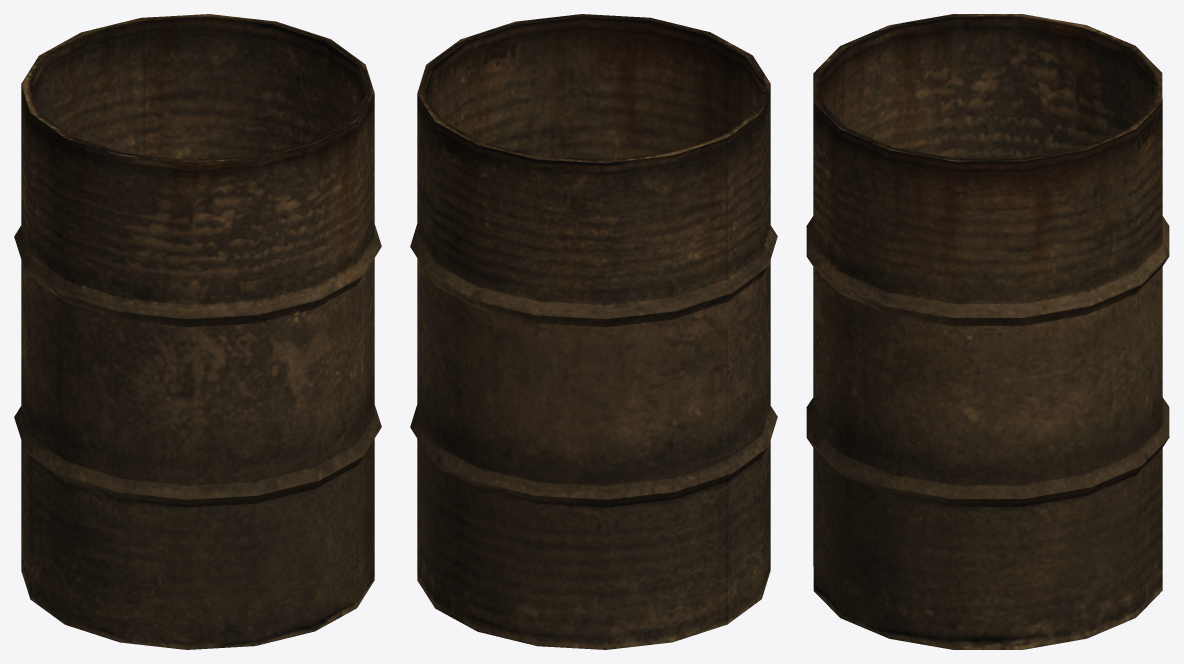
The model's file is metal_barrel_hr_4.obj.
The picture shows the model from 3 angles, left to right: view 1: azimuth 30°, elevation 25°; view 2: azimuth 150°, elevation 25°; view 3: azimuth 270°, elevation 25°; orthographic projection.
Parts seen in each view (by area): view 1: metal_barrel_hr_4; view 2: metal_barrel_hr_4; view 3: metal_barrel_hr_4.
Part boxes in pixels (x1,y1,x2,y2): metal_barrel_hr_4: (14, 14, 381, 649); metal_barrel_hr_4: (410, 14, 777, 649); metal_barrel_hr_4: (806, 14, 1169, 649).
Size of the model in its own units: 0.6735 by 1 by 0.6735.
